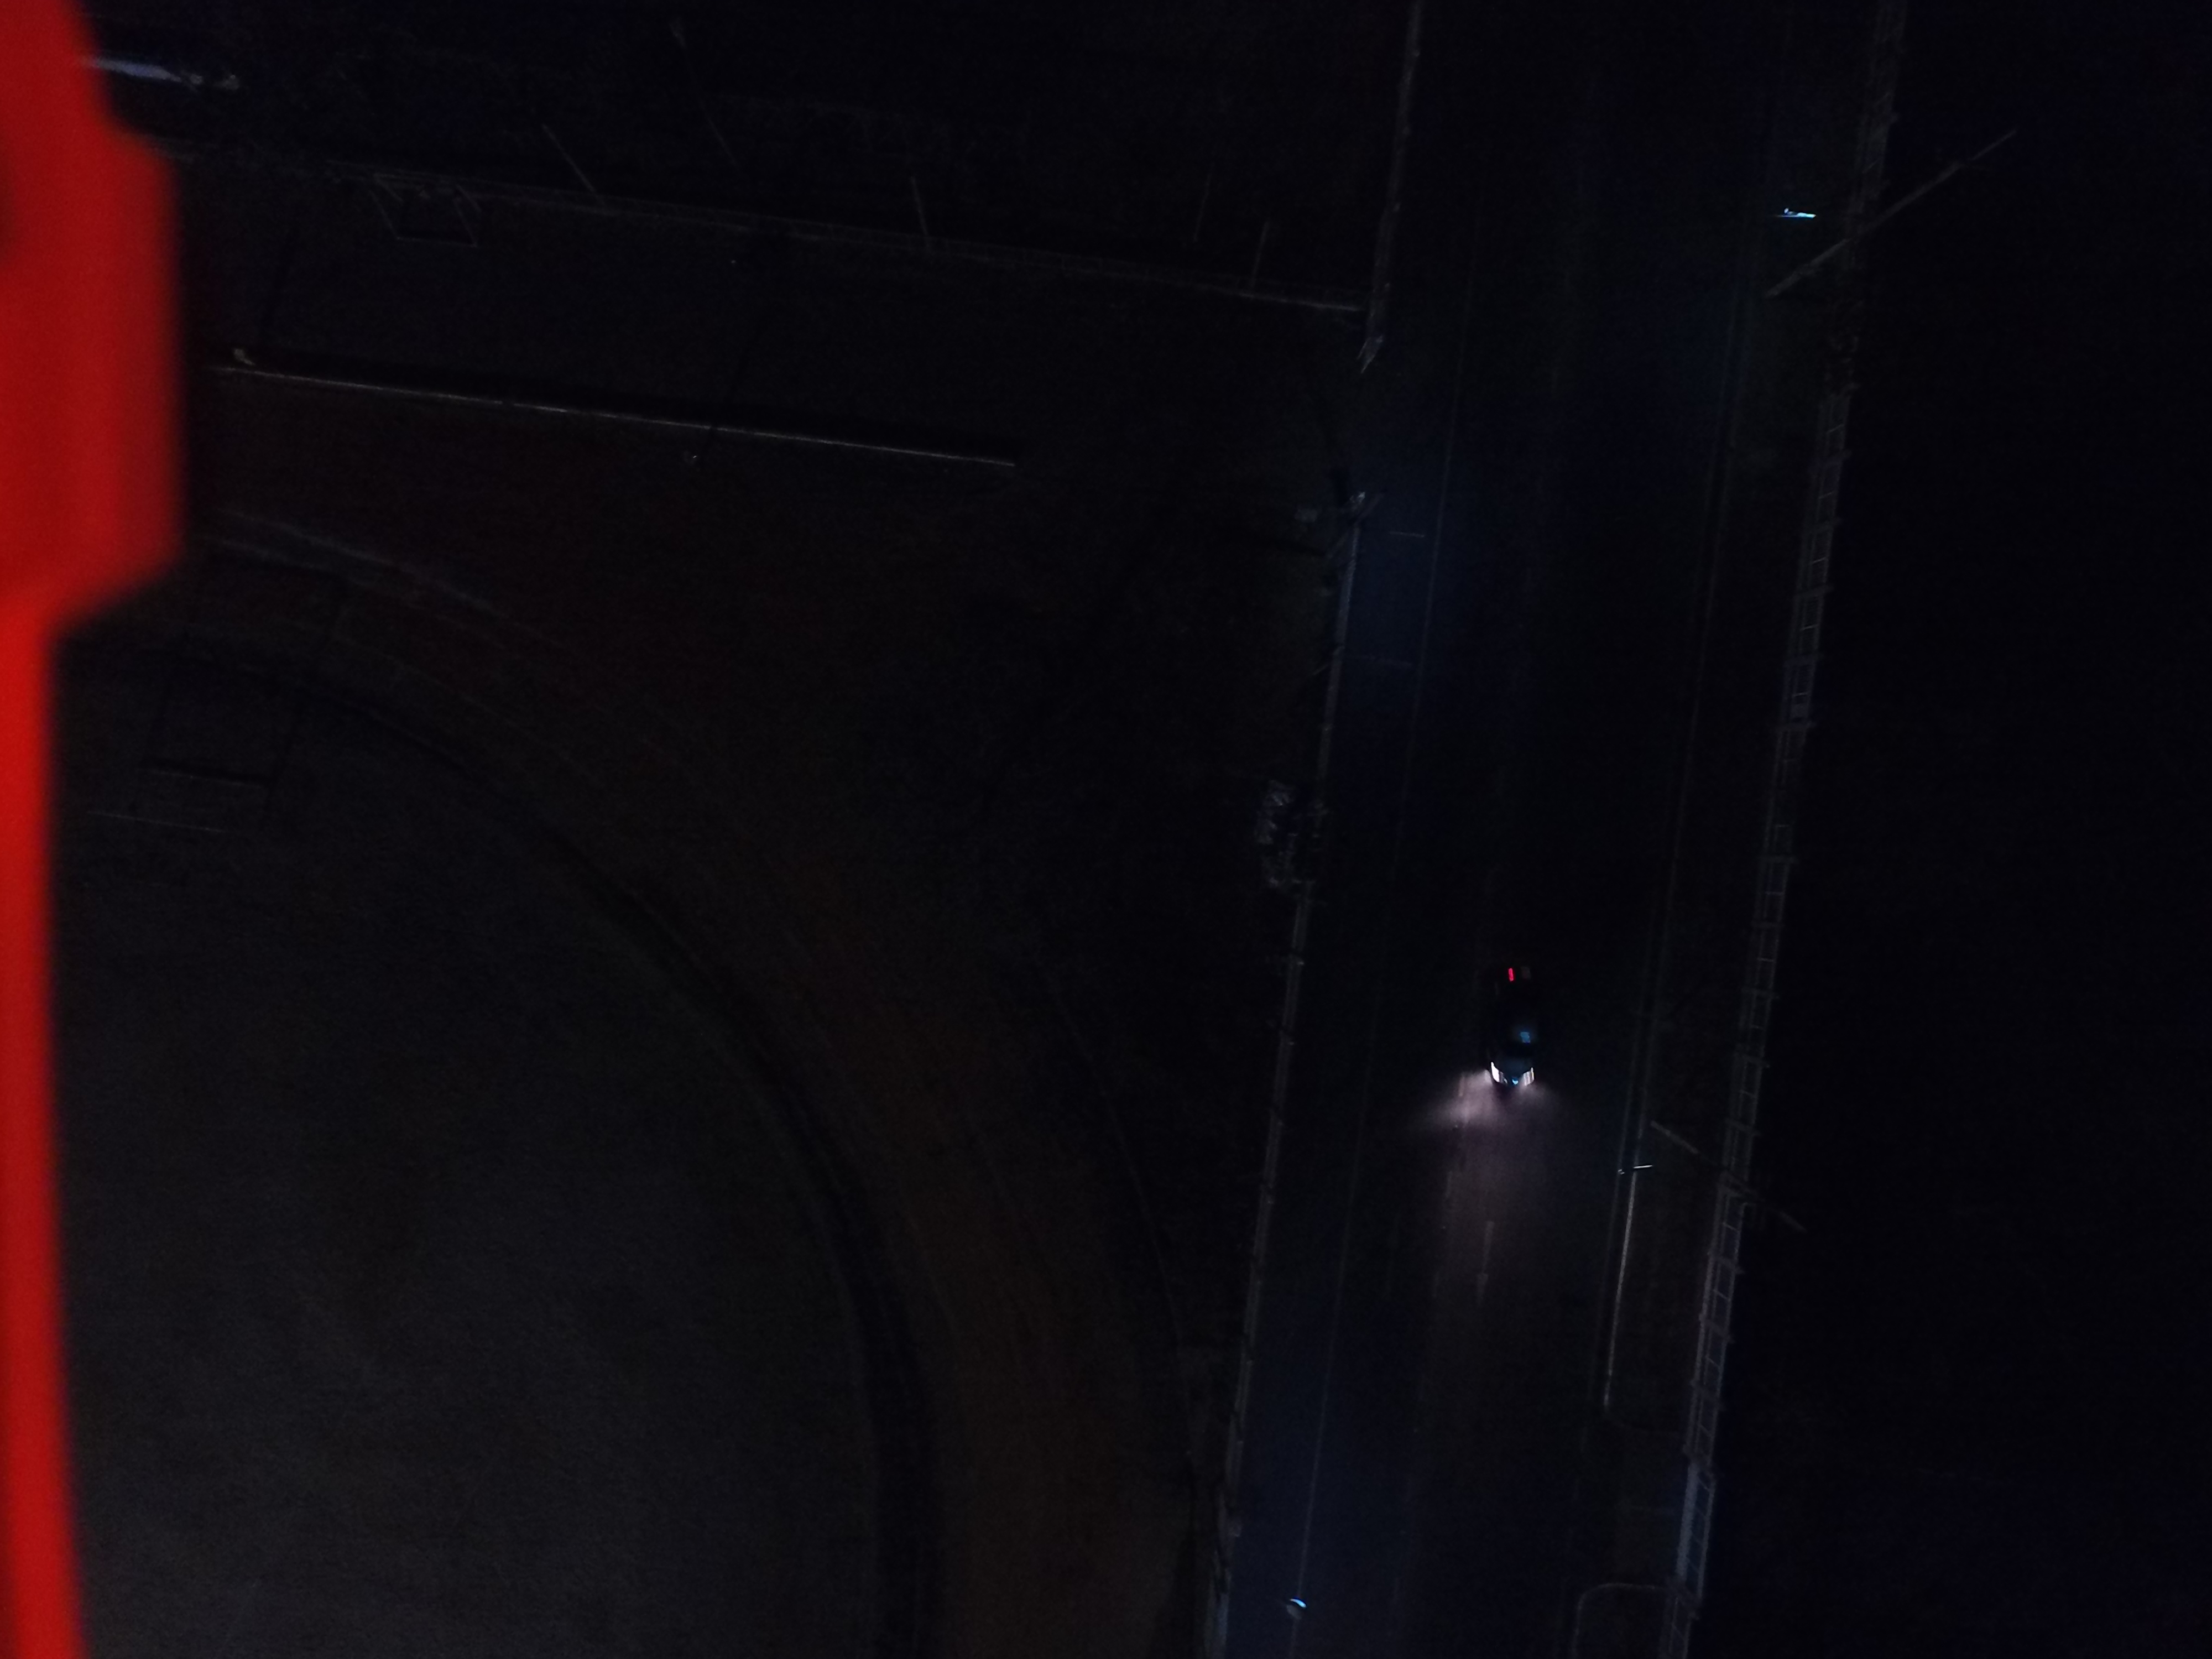car: (1451, 934, 1562, 1138)
